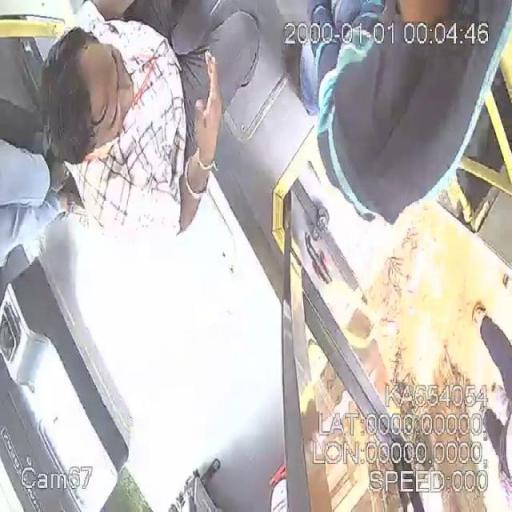persona: (306, 2, 510, 232), (38, 4, 224, 238)
